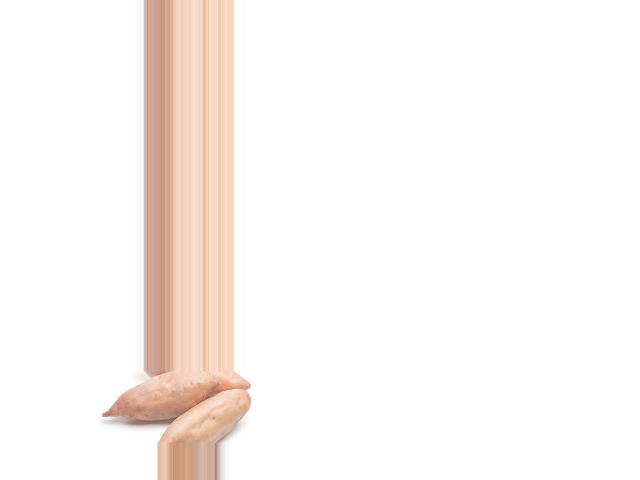sweet_potato: (152, 390, 251, 444)
